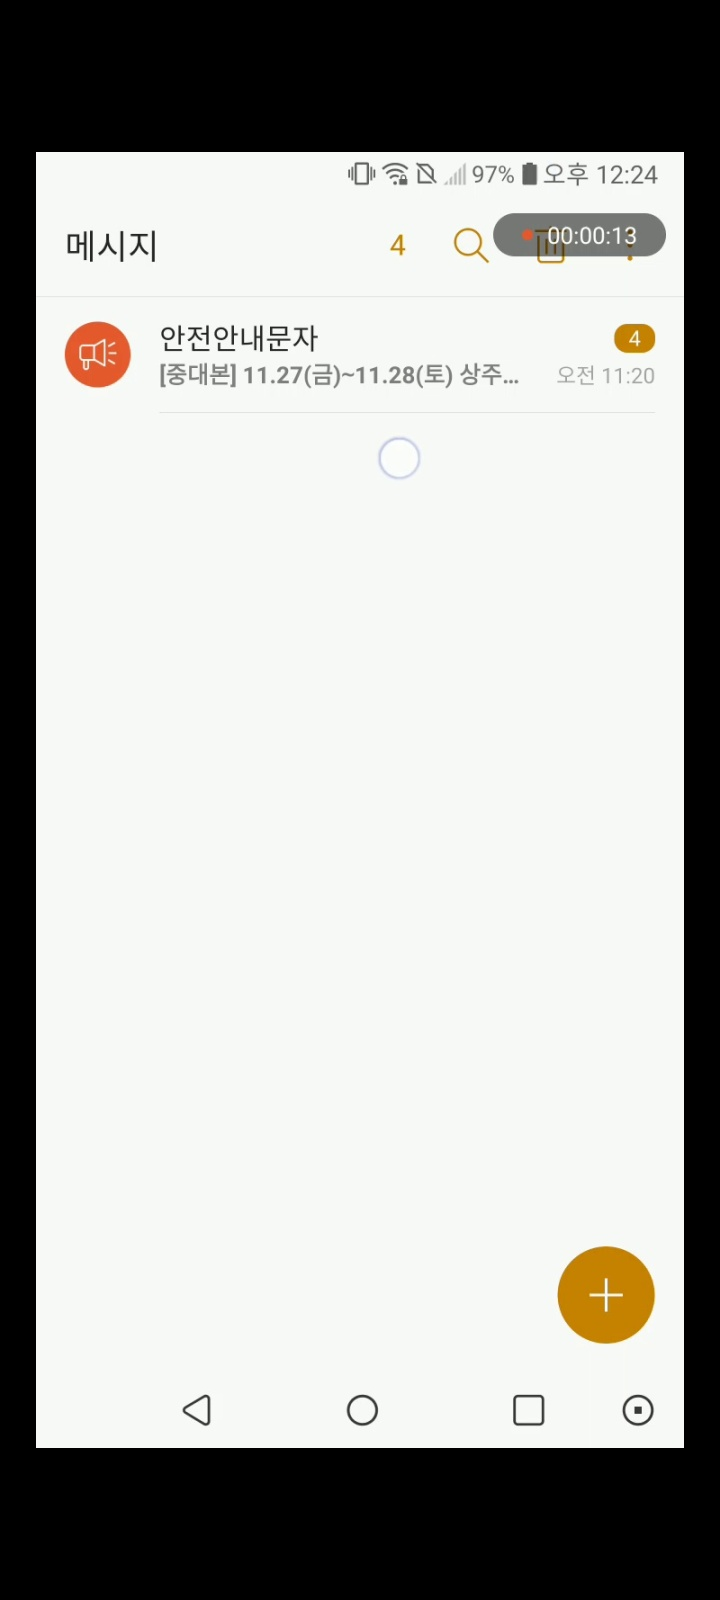Cursor: (378, 435, 423, 480)
